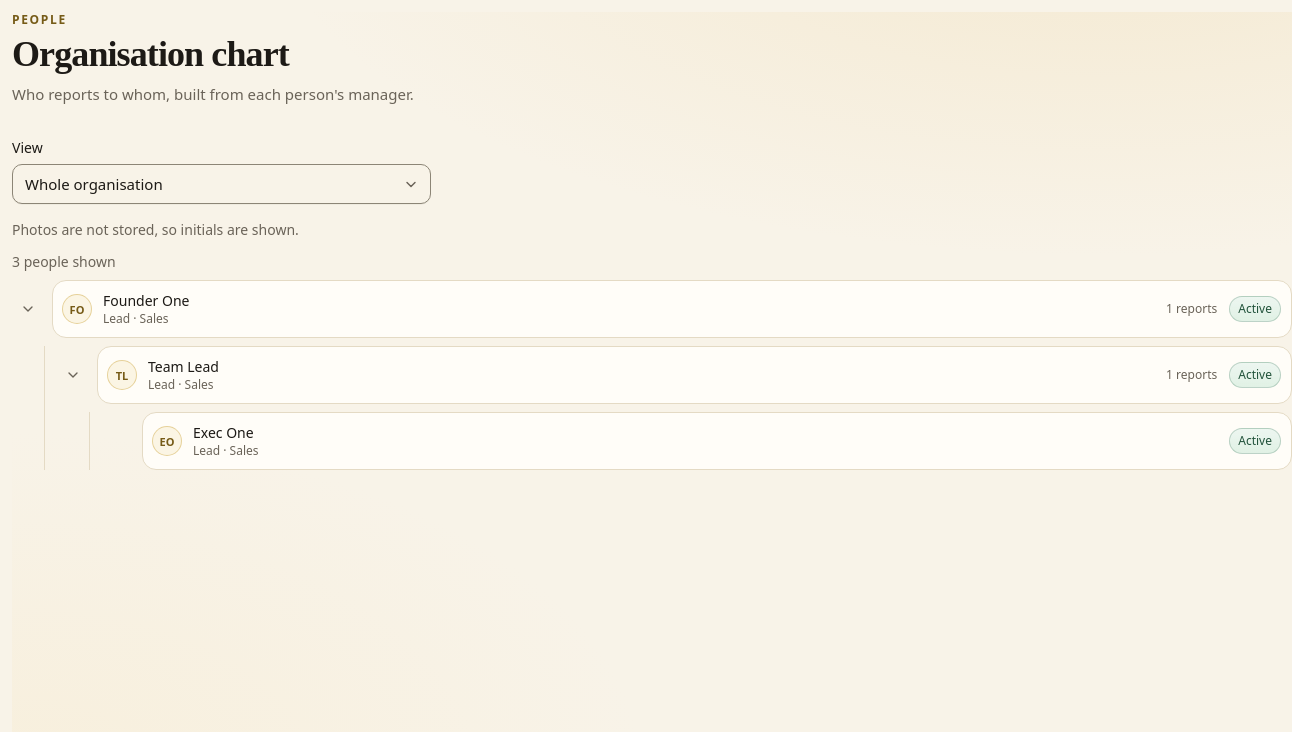
Scenario: OrgChartPage › renders the reporting tree and collapses/expands a branch
Expected: the link "EO Exec One Lead · Sales Active" is shown, [142,412,1291,470]
Click the button named "Collapse Team Lead": click(73, 375) [57,359,89,391]
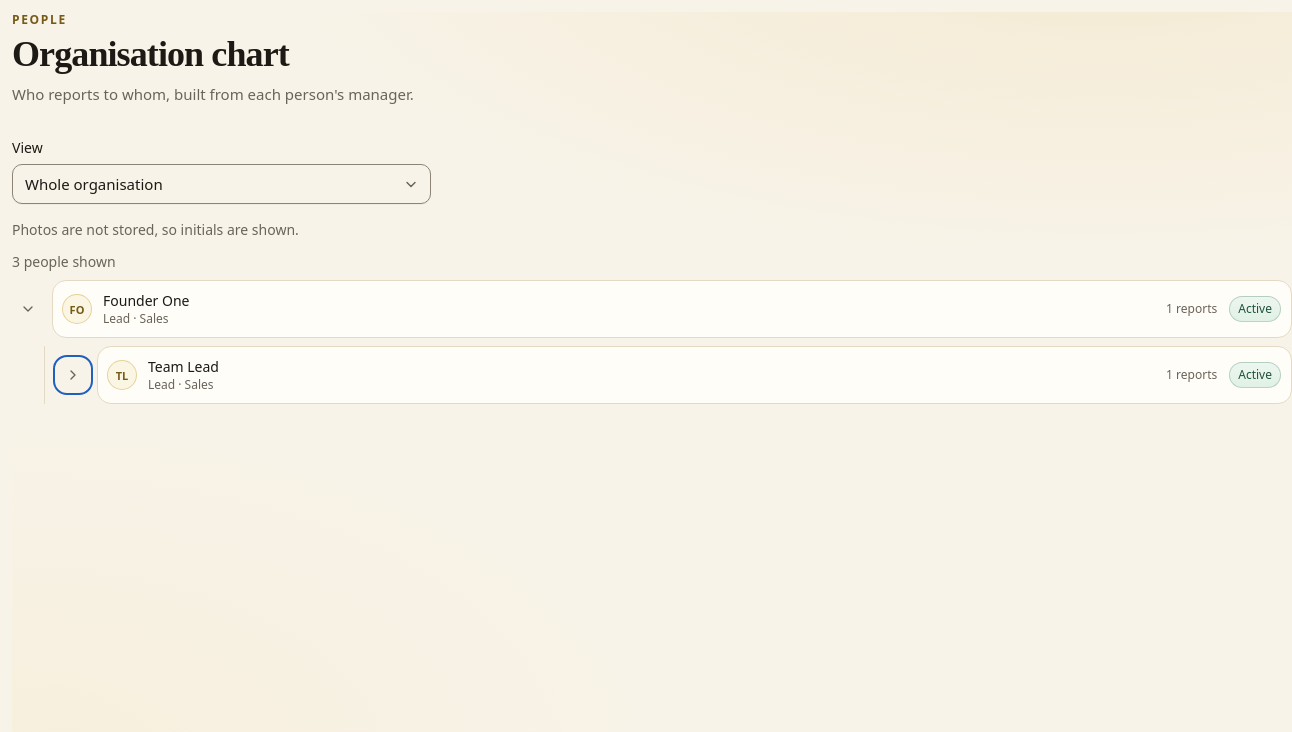
Expected: the text "Photos are not stored, so initials are shown." is shown, [12,220,299,239]
Now the link "Exec One" is gone
Now the button named "Expand Team Lead" is collapsed, box [57,359,89,391]
